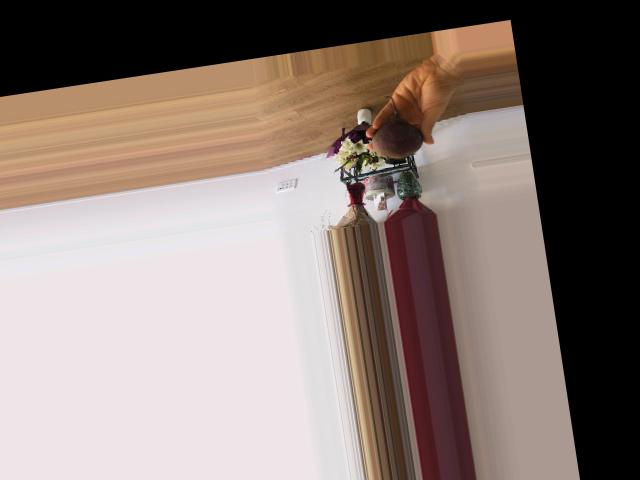beet: (364, 91, 425, 167)
